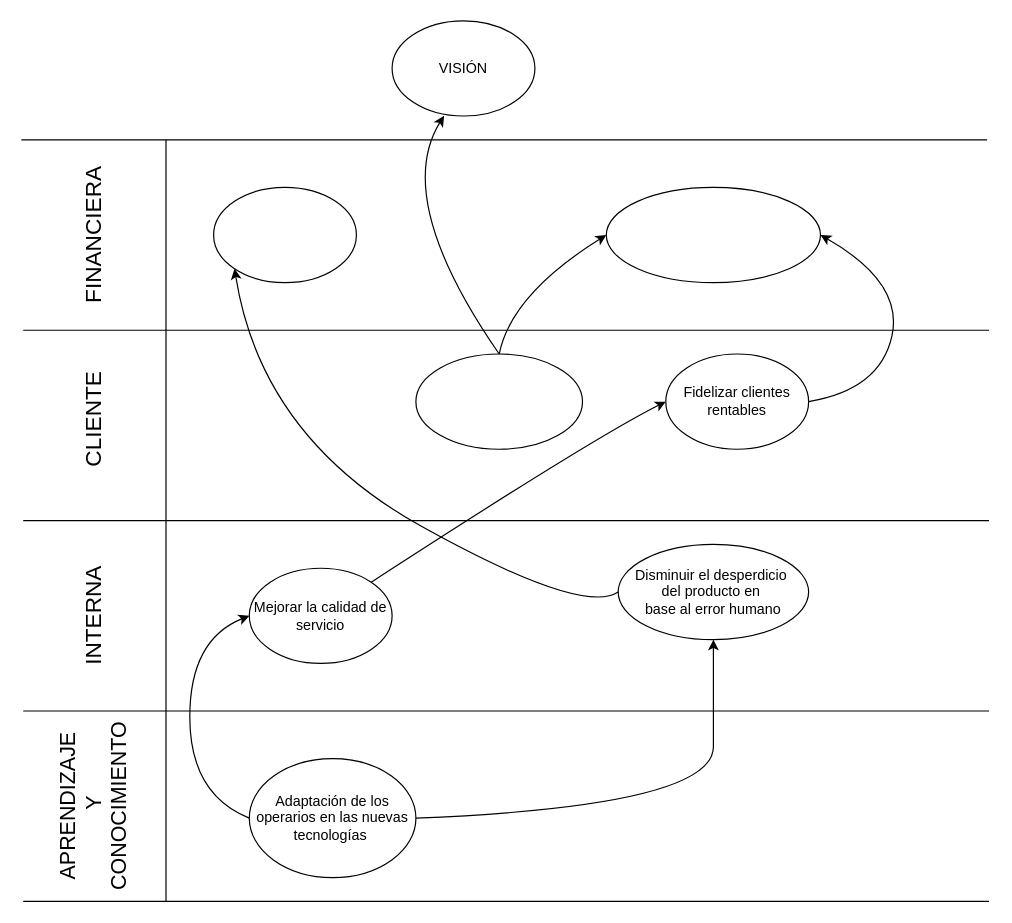
Image size: 1012x923. Some labels were removed from this diagram. The shapes that lost their labels are listed below. From the top down, each one's centre as x and y in pixels, then its label:
At point 284,234: "Disminuir el costo del producto".
At point 713,234: "Generar mas ventas con el aprovechamiento de alta demanda".
At point 499,401: "Aumentar la cantidad producida de tubos normados".
